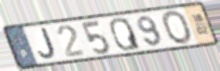2: (57, 24, 86, 58)
5: (79, 19, 114, 56)
9: (136, 14, 164, 48)
J: (37, 27, 57, 60)
O: (160, 9, 195, 46)
Q: (108, 17, 143, 52)
